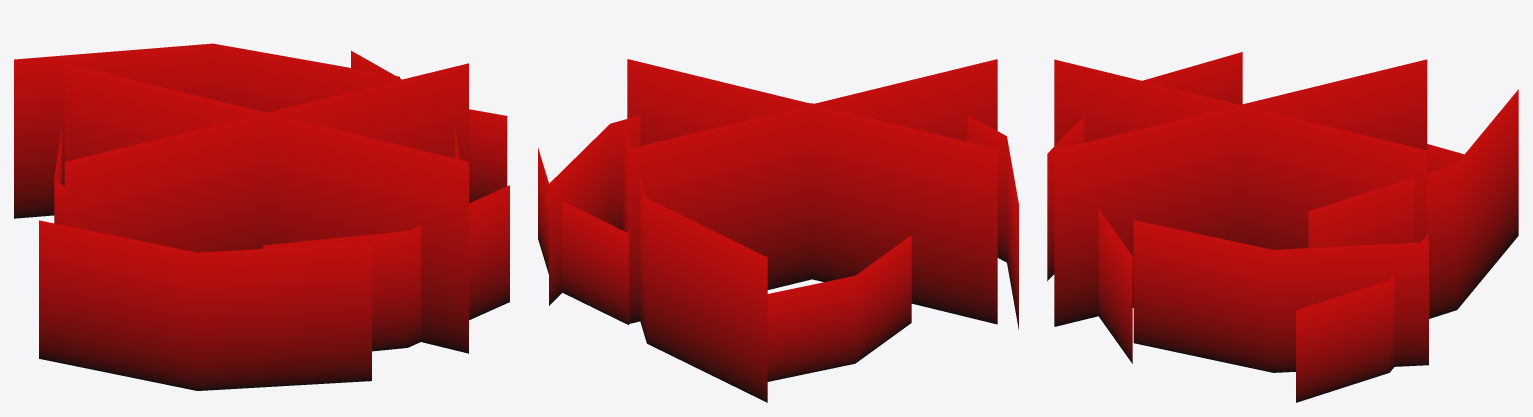
Rendered from SM_Nature_Grass_03.fbx.
3 renders of one model, left to right at view 1: azimuth 30°, elevation 25°; view 2: azimuth 150°, elevation 25°; view 3: azimuth 270°, elevation 25°, orthographic. The views are drawn at different scales.
Parts seen in each view (by area): view 1: SM_Nature_Grass_03_LOD0; view 2: SM_Nature_Grass_03_LOD0; view 3: SM_Nature_Grass_03_LOD0.
Boxes of the visible parts, left/top/right/bottom form: SM_Nature_Grass_03_LOD0: left=14, top=43, right=509, bottom=390; SM_Nature_Grass_03_LOD0: left=538, top=59, right=1018, bottom=402; SM_Nature_Grass_03_LOD0: left=1047, top=52, right=1518, bottom=402.
Size of the model in its own units: 35 by 12.88 by 31.2.
